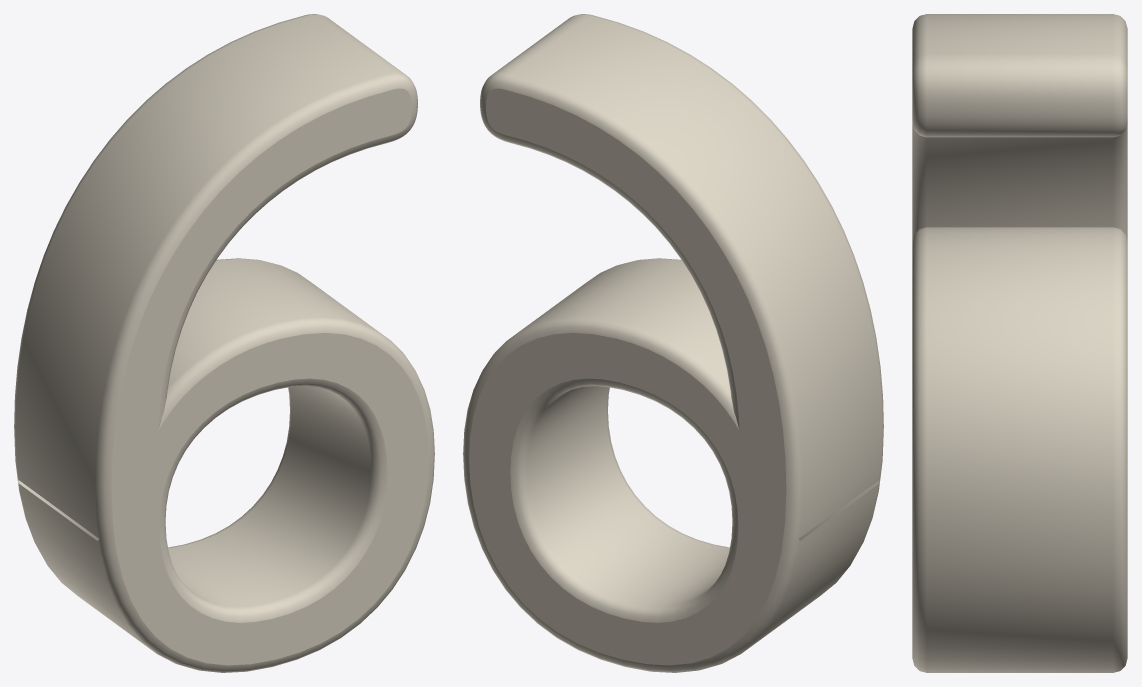
The model's file is number_6.glb.
3 renders of one model, left to right at view 1: azimuth 30°, elevation 25°; view 2: azimuth 150°, elevation 25°; view 3: azimuth 270°, elevation 25°, orthographic. The views are drawn at different scales.
Parts seen in each view (by area): view 1: color_body; view 2: color_body; view 3: color_body.
Boxes of the visible parts, x1,y1,x2,y2 form: color_body: [14, 14, 434, 672]; color_body: [463, 14, 883, 672]; color_body: [912, 14, 1127, 672].
Bounding box in the file's own units: 0.5161 × 0.8216 × 0.242.
